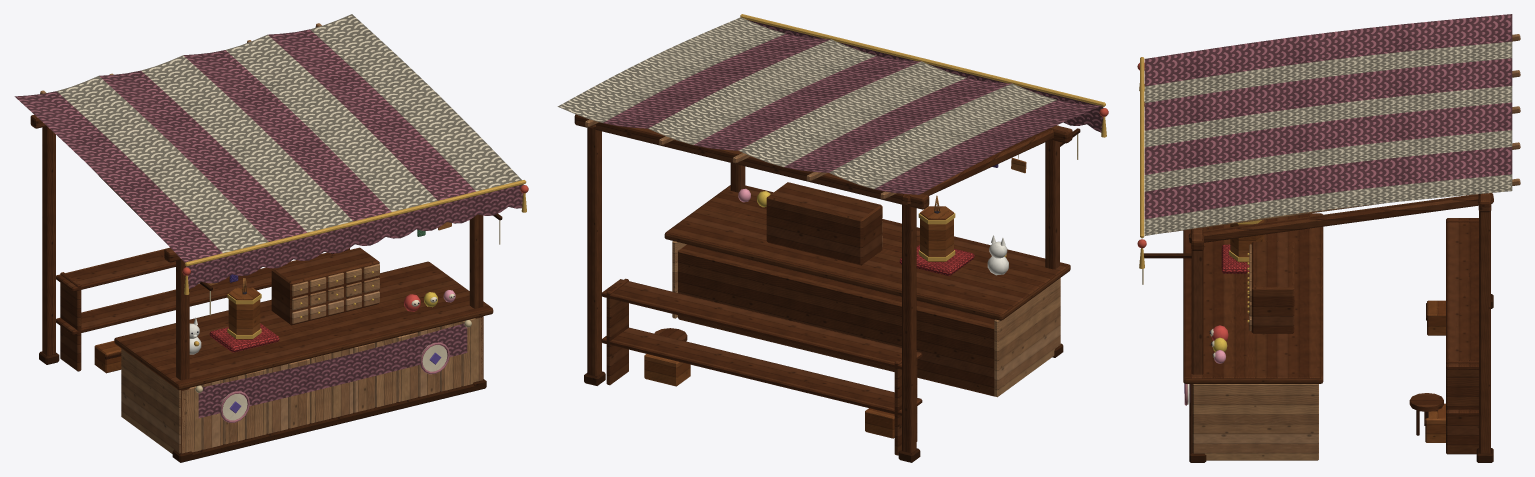
Rendered from env_stall_fortune.glb.
3 renders of one model, left to right at view 1: azimuth 30°, elevation 25°; view 2: azimuth 150°, elevation 25°; view 3: azimuth 270°, elevation 25°, orthographic. The views are drawn at different scales.
Parts seen in each view (by area): view 1: env_stall_fortune; view 2: env_stall_fortune; view 3: env_stall_fortune.
Boxes of the visible parts, box(x1,y1,x2,y2) form: env_stall_fortune: box(14, 14, 528, 462); env_stall_fortune: box(557, 14, 1108, 462); env_stall_fortune: box(1137, 14, 1520, 462).
Bounding box in the file's own units: 5 × 3.62 × 4.48.
3 materials, 3 textured.
